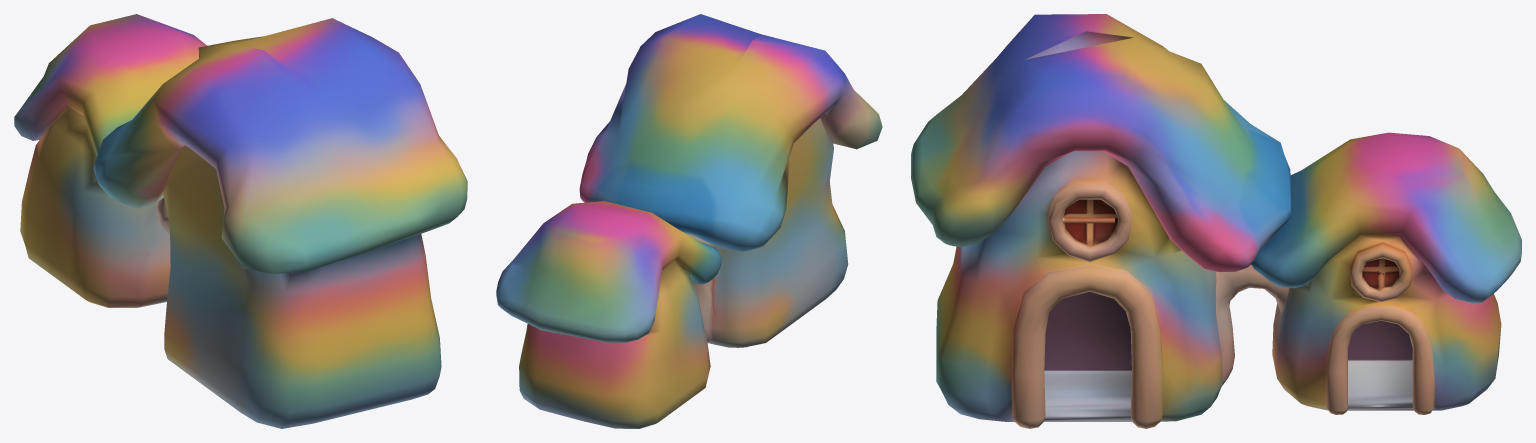
Rendered from d9cac83a-2e3f-45e0-87be-b79e67c11505.glb.
3 views of the same model, side by side, from view 1: azimuth 30°, elevation 25°; view 2: azimuth 150°, elevation 25°; view 3: azimuth 270°, elevation 25° (orthographic). The views are drawn at different scales.
Visible parts, largest first — view 1: tripo_node_fe93fff7-422e-4e58-a8ab-599ae4a95e6f; view 2: tripo_node_fe93fff7-422e-4e58-a8ab-599ae4a95e6f; view 3: tripo_node_fe93fff7-422e-4e58-a8ab-599ae4a95e6f.
Boxes of the visible parts, x1,y1,x2,y2 form: tripo_node_fe93fff7-422e-4e58-a8ab-599ae4a95e6f: [14, 14, 467, 428]; tripo_node_fe93fff7-422e-4e58-a8ab-599ae4a95e6f: [496, 14, 882, 428]; tripo_node_fe93fff7-422e-4e58-a8ab-599ae4a95e6f: [911, 14, 1521, 428].
Bounding box in the file's own units: 0.4618 × 0.6067 × 0.9961.
Materials: 1 (1 with a texture image).
